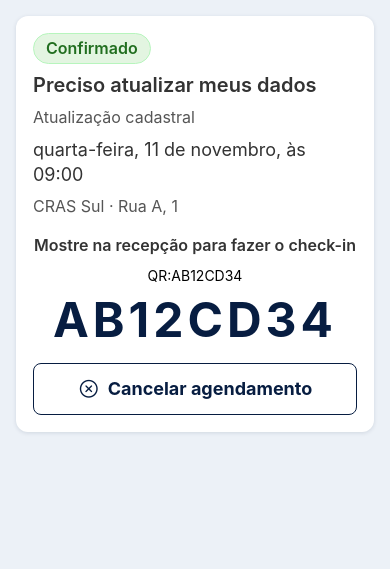
Test: Meus agendamentos (RF07) › erro ao cancelar aparece no cartão
The width and height of the screenshot is (390, 569).
Click the button with aria-label "Cancelar agendamento de" at point(195, 389), box [33,363,357,415]
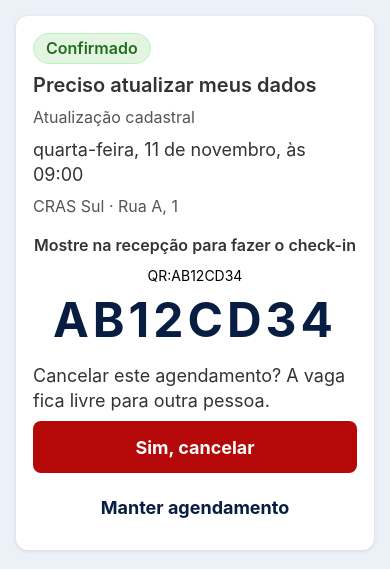
Click the button "Sim, cancelar" at point(195, 447), box [33,421,357,473]
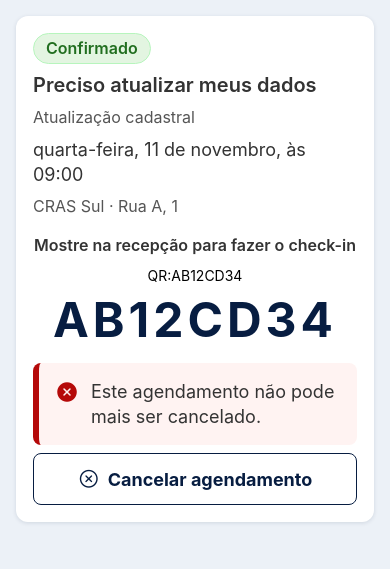
Expected: the text "Este agendamento não pode mais ser cancelado." is shown, [91,379,341,429]
